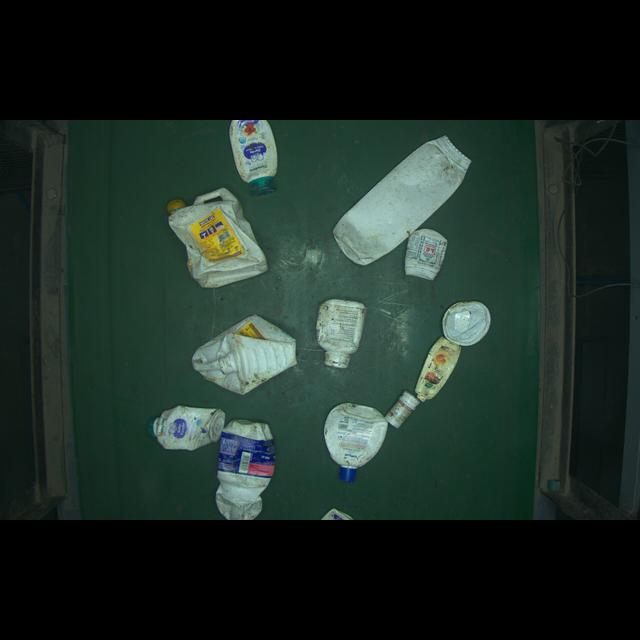mix PET: (323, 398, 385, 483), (144, 392, 228, 453), (411, 335, 460, 408), (438, 298, 494, 351), (386, 389, 419, 432)
